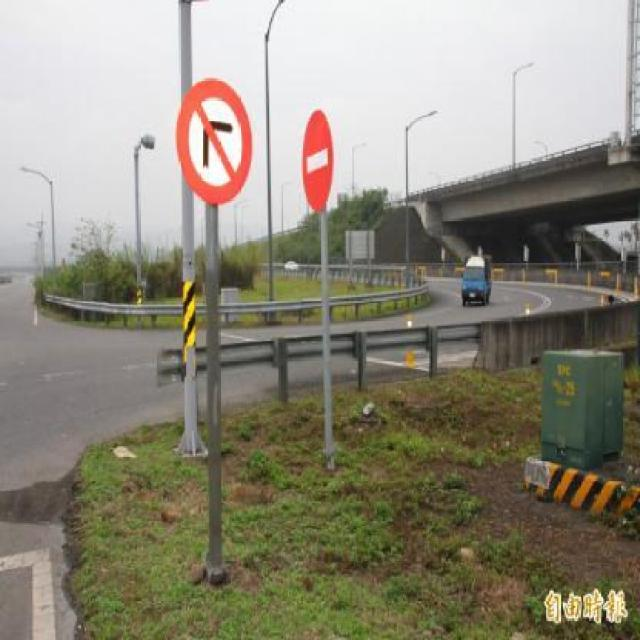traffic_sign: (298, 100, 337, 214)
